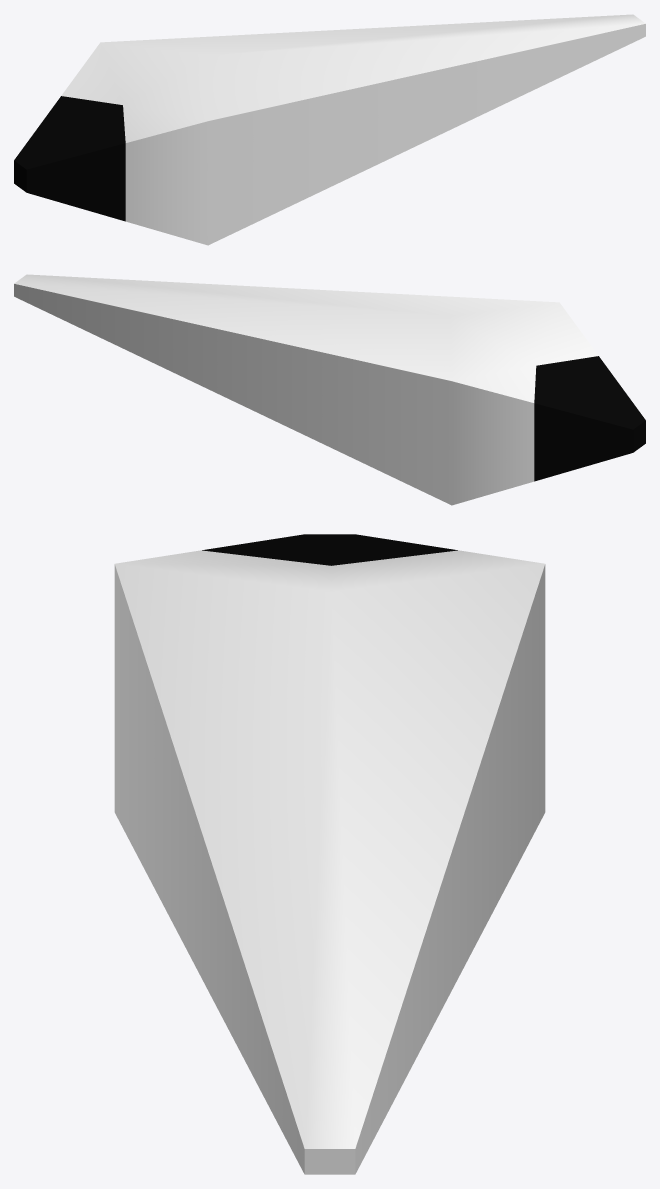
Rendered from suiveur_off01.FBX.
3 views of the same model, one above another, from view 1: azimuth 30°, elevation 25°; view 2: azimuth 150°, elevation 25°; view 3: azimuth 270°, elevation 25° (orthographic). The views are drawn at different scales.
Parts seen in each view (by area): view 1: Box005; view 2: Box005; view 3: Box005.
Part boxes in pixels (box(x1,y1,x2,y2)): Box005: box(14, 14, 645, 245); Box005: box(14, 274, 645, 505); Box005: box(114, 534, 545, 1174).
Bounding box in the file's own units: 114 × 26.37 × 34.43.
